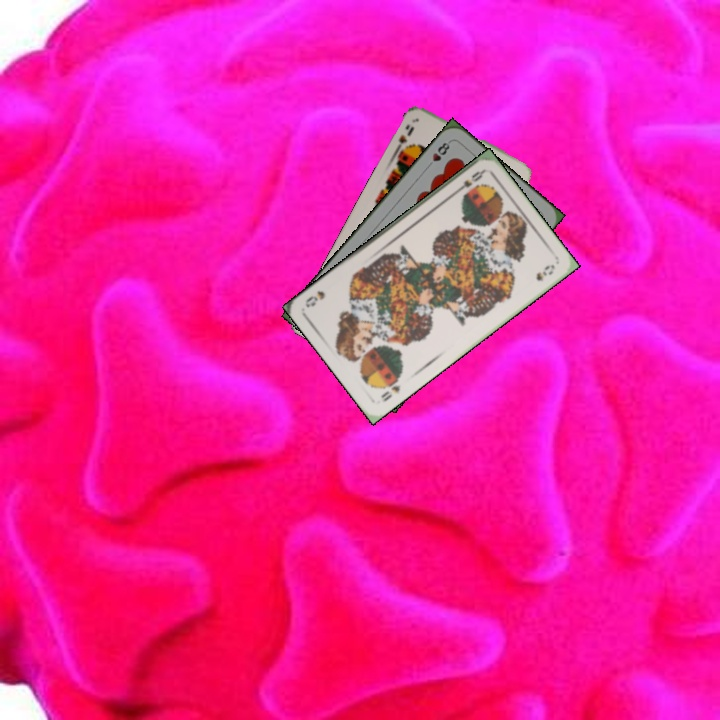H8: (423, 137, 453, 171)
S9: (390, 122, 417, 156)
SO: (451, 166, 487, 196), (377, 375, 404, 404)
